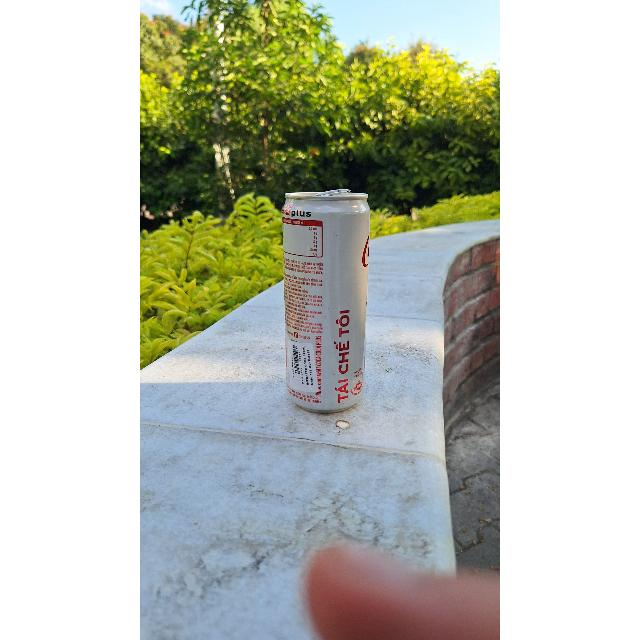Coca Cola Plus: (278, 182, 370, 418)
